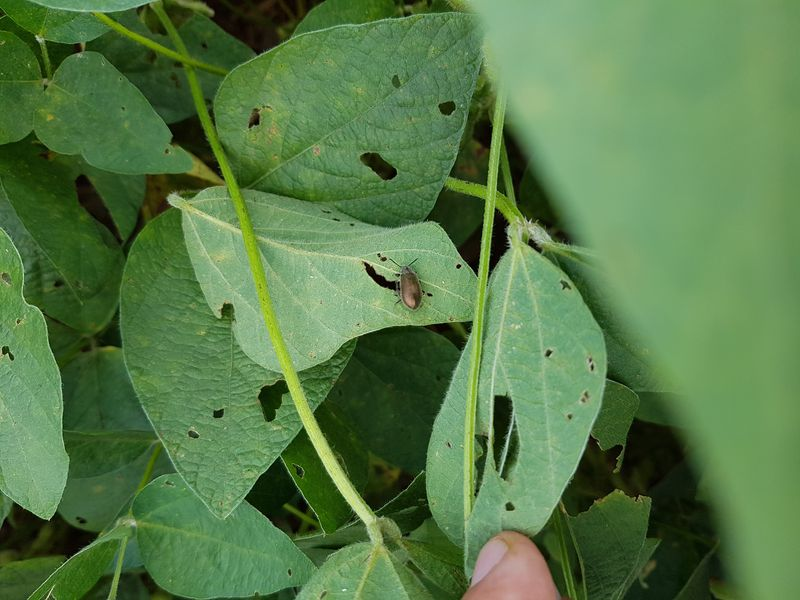Lagria_villosa: (383, 250, 431, 315)
